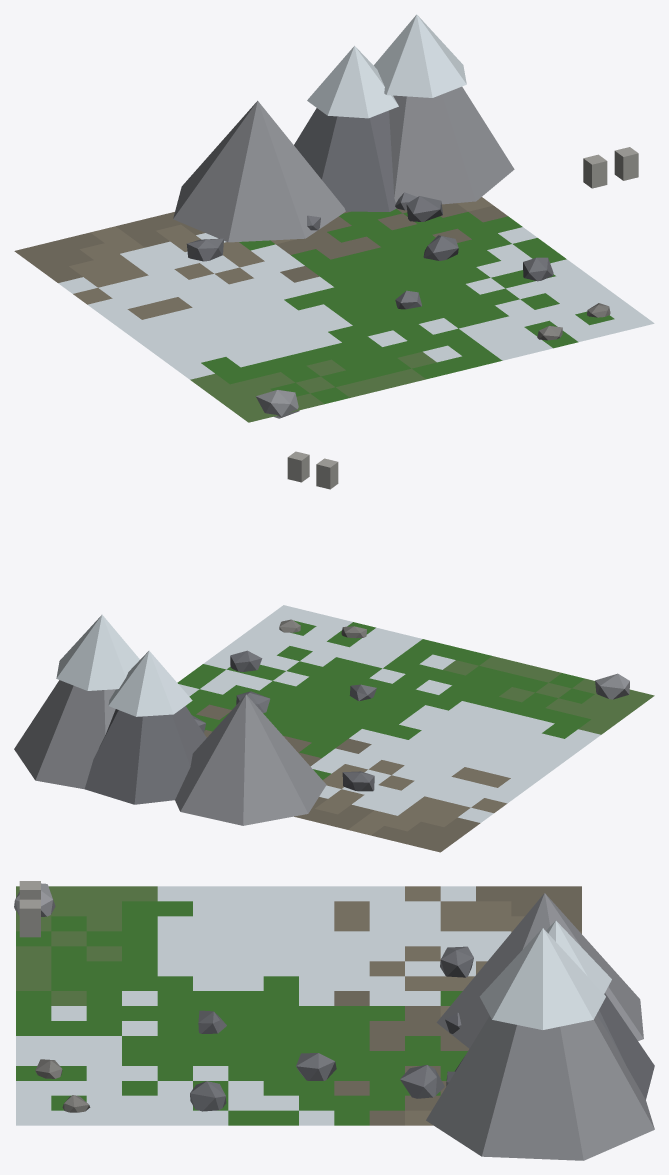
File: chunk_6_1.glb
3 renders of one model, top to bottom at view 1: azimuth 30°, elevation 25°; view 2: azimuth 150°, elevation 25°; view 3: azimuth 270°, elevation 25°, orthographic. The views are drawn at different scales.
Visible parts, largest first — view 1: chunk_6_1; view 2: chunk_6_1; view 3: chunk_6_1.
Part boxes in pixels (x1,y1,x2,y2): chunk_6_1: [14, 14, 654, 422]; chunk_6_1: [14, 451, 654, 852]; chunk_6_1: [14, 881, 654, 1160].
Bounding box in the file's own units: 18.35 × 6.96 × 18.12.
